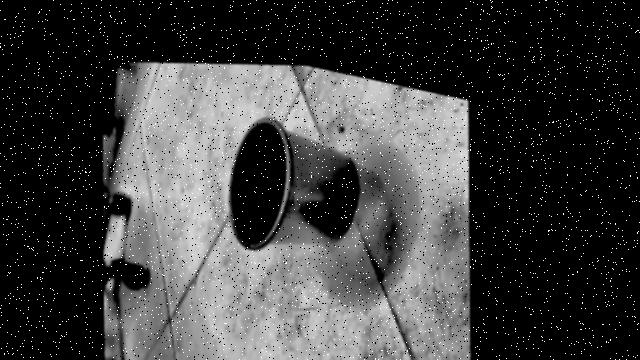pot: (229, 117, 359, 250)
